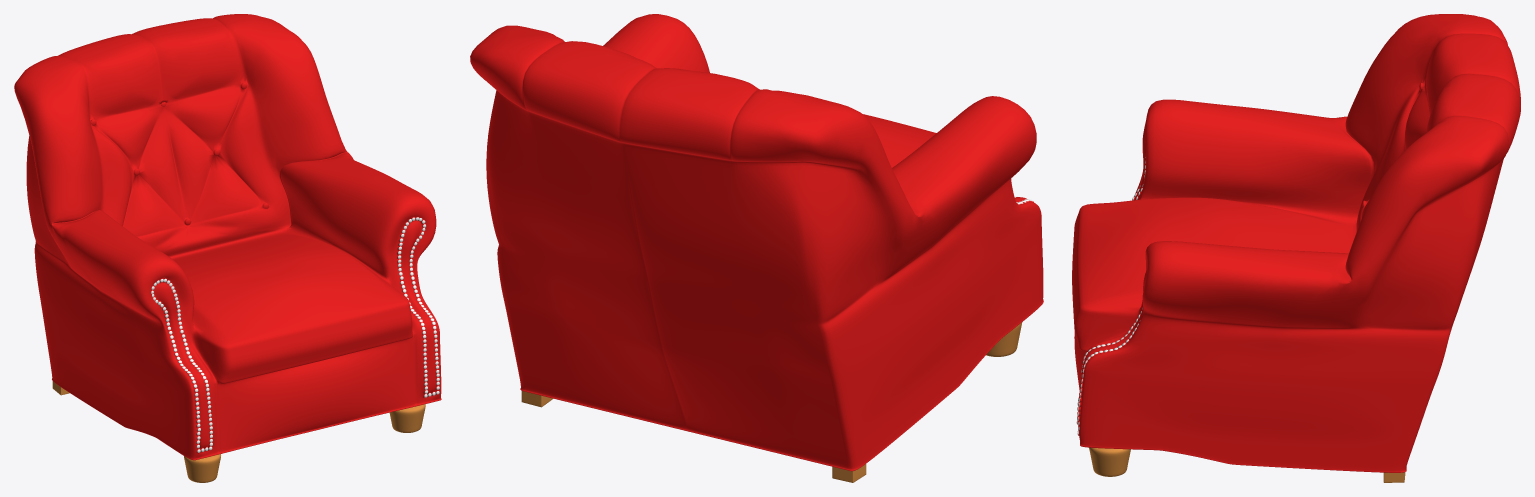
3 renders of one model, left to right at view 1: azimuth 30°, elevation 25°; view 2: azimuth 150°, elevation 25°; view 3: azimuth 270°, elevation 25°, orthographic. The views are drawn at different scales.
Visible parts, largest first — view 1: Chair (×3); view 2: Chair (×2); view 3: Chair (×3).
Boxes of the visible parts, box(x1,y1,x2,y2) form: Chair (×3): box(14, 14, 441, 482); Chair (×2): box(470, 14, 1043, 482); Chair (×3): box(1072, 14, 1520, 482).
Size of the model in its own units: 20.07 by 18.92 by 22.48.
